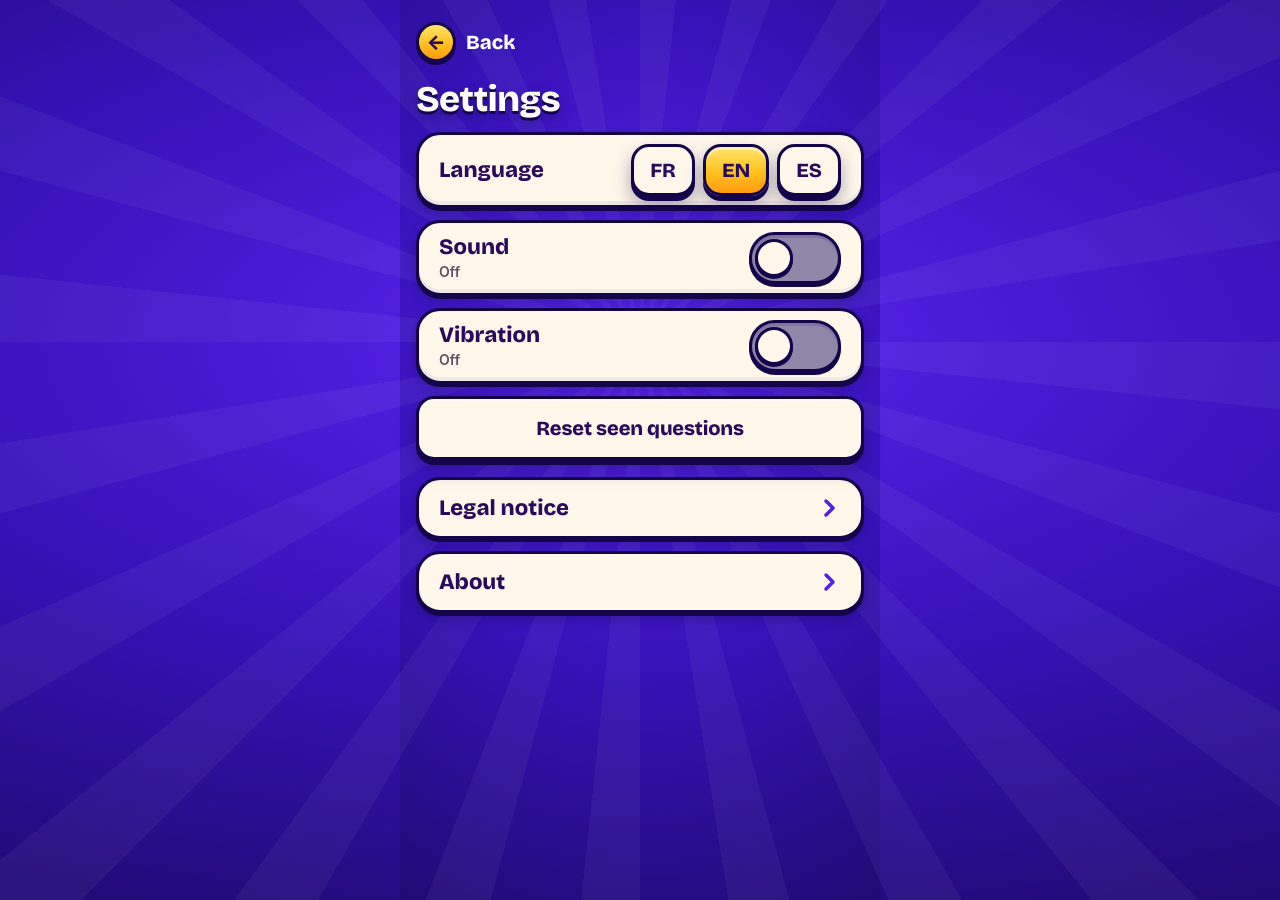
Test: SettingsView › offers every language and switches the screen to the one picked
Click the button with aria-label "Español" at [809, 170], box [777,144,841,196]
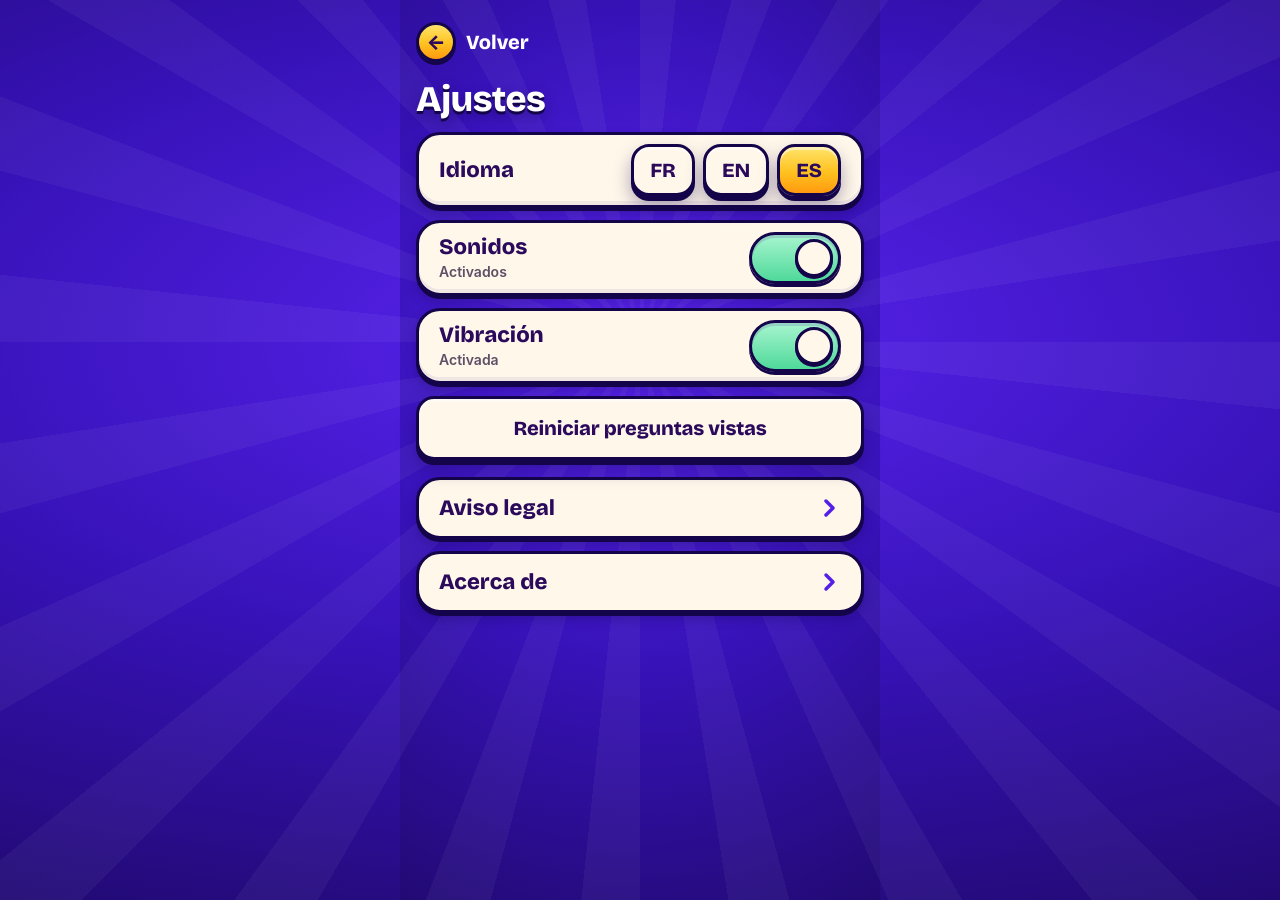
Check: the heading "Ajustes" is shown, box [416,78,545,121]
